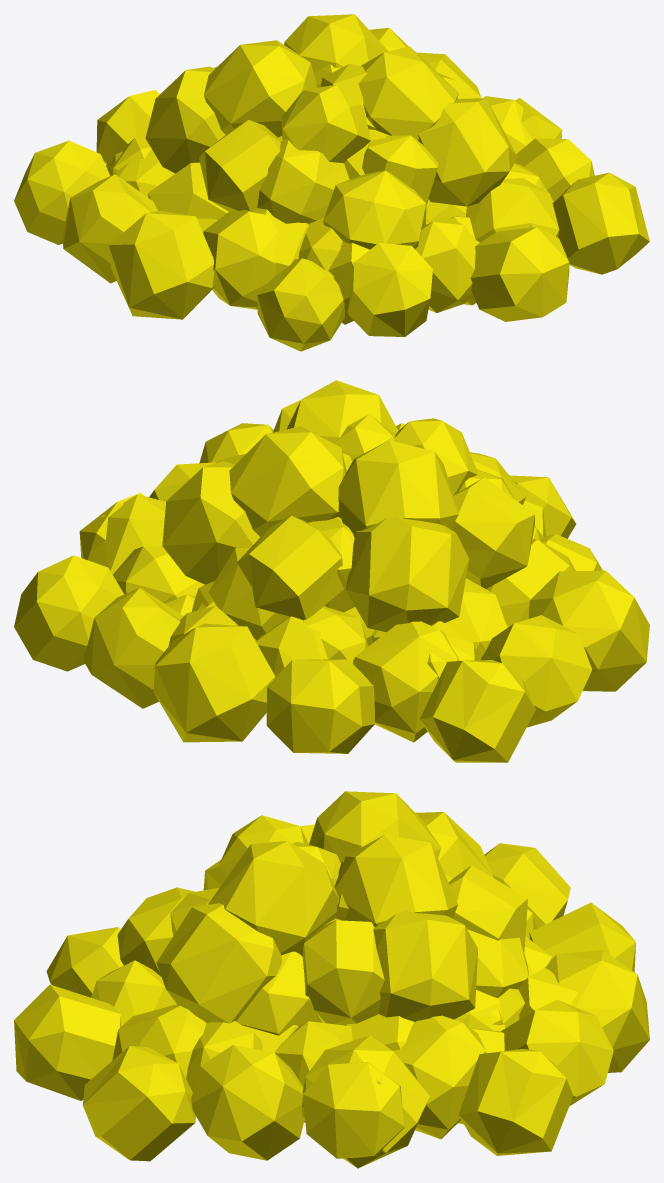
Rendered from Pile of Lemons.fbx.
3 renders of one model, top to bottom at view 1: azimuth 30°, elevation 25°; view 2: azimuth 150°, elevation 25°; view 3: azimuth 270°, elevation 25°, orthographic. The views are drawn at different scales.
Visible parts, largest first — view 1: Pile of Lemons; view 2: Pile of Lemons; view 3: Pile of Lemons.
Part boxes in pixels (<box>): Pile of Lemons: <box>14,14,649,351</box>; Pile of Lemons: <box>14,380,649,762</box>; Pile of Lemons: <box>14,791,649,1168</box>.
Bounding box in the file's own units: 64.43 × 29.36 × 67.76.
